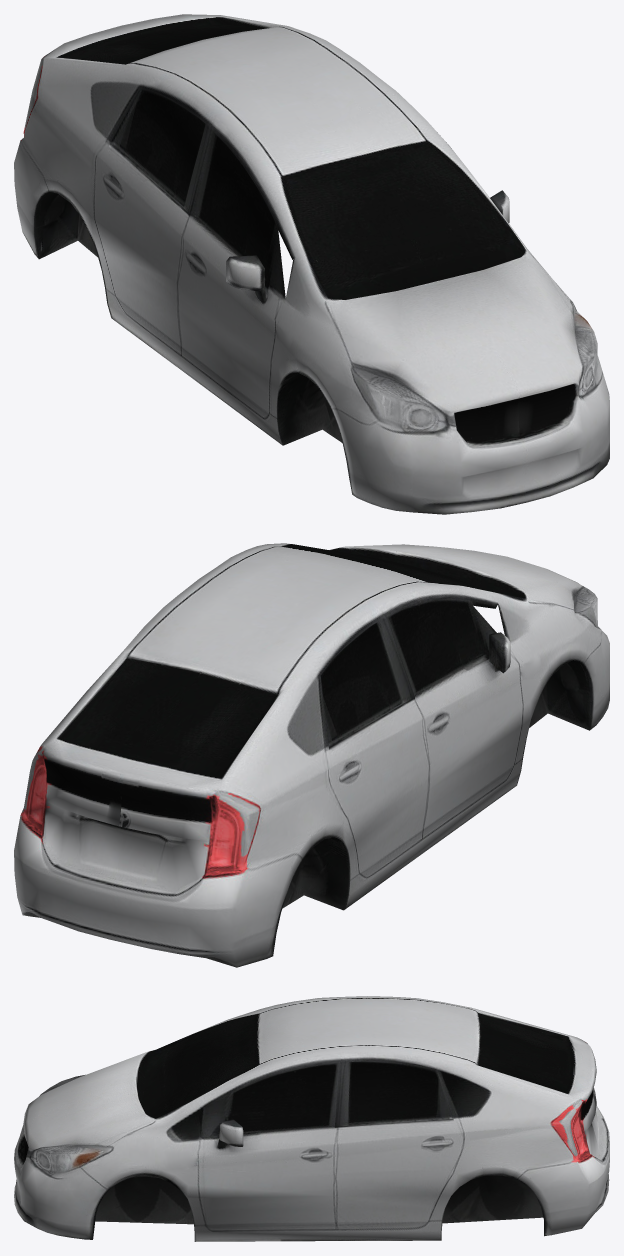
File: hybrid.glb
3 views of the same model, one above another, from view 1: azimuth 30°, elevation 25°; view 2: azimuth 150°, elevation 25°; view 3: azimuth 270°, elevation 25° (orthographic). The views are drawn at different scales.
Visible parts, largest first — view 1: hybrid; view 2: hybrid; view 3: hybrid.
Boxes of the visible parts, x1,y1,x2,y2 form: hybrid: (14, 14, 609, 514); hybrid: (14, 543, 609, 967); hybrid: (14, 996, 609, 1241).
Bounding box in the file's own units: 1.76 × 1.51 × 4.54.
1 material, 1 textured.
